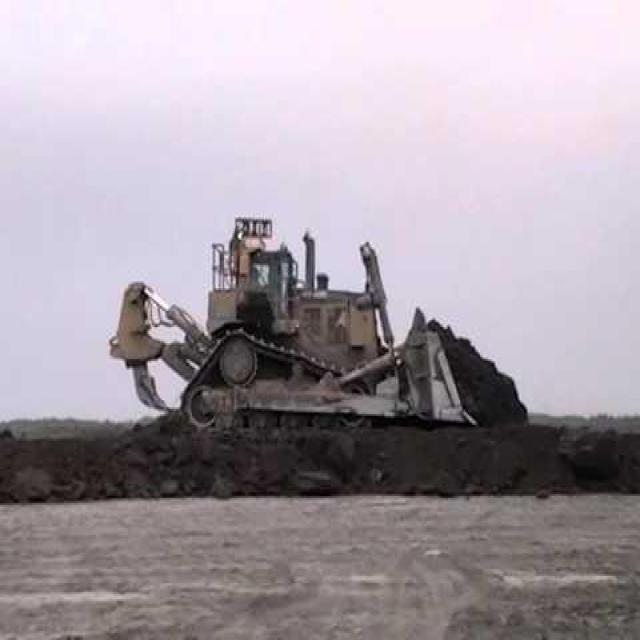buldozerpayloadergrader: (111, 205, 537, 439)
